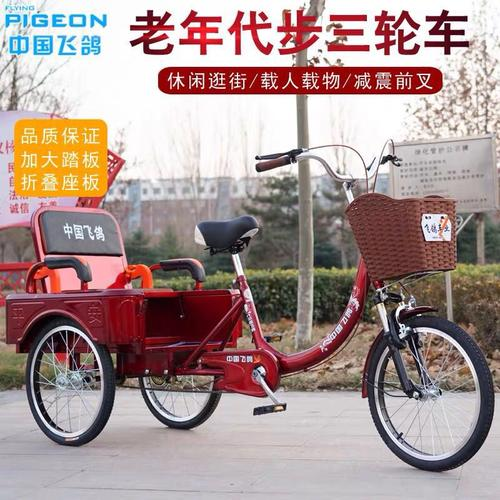empty: (6, 139, 492, 465)
